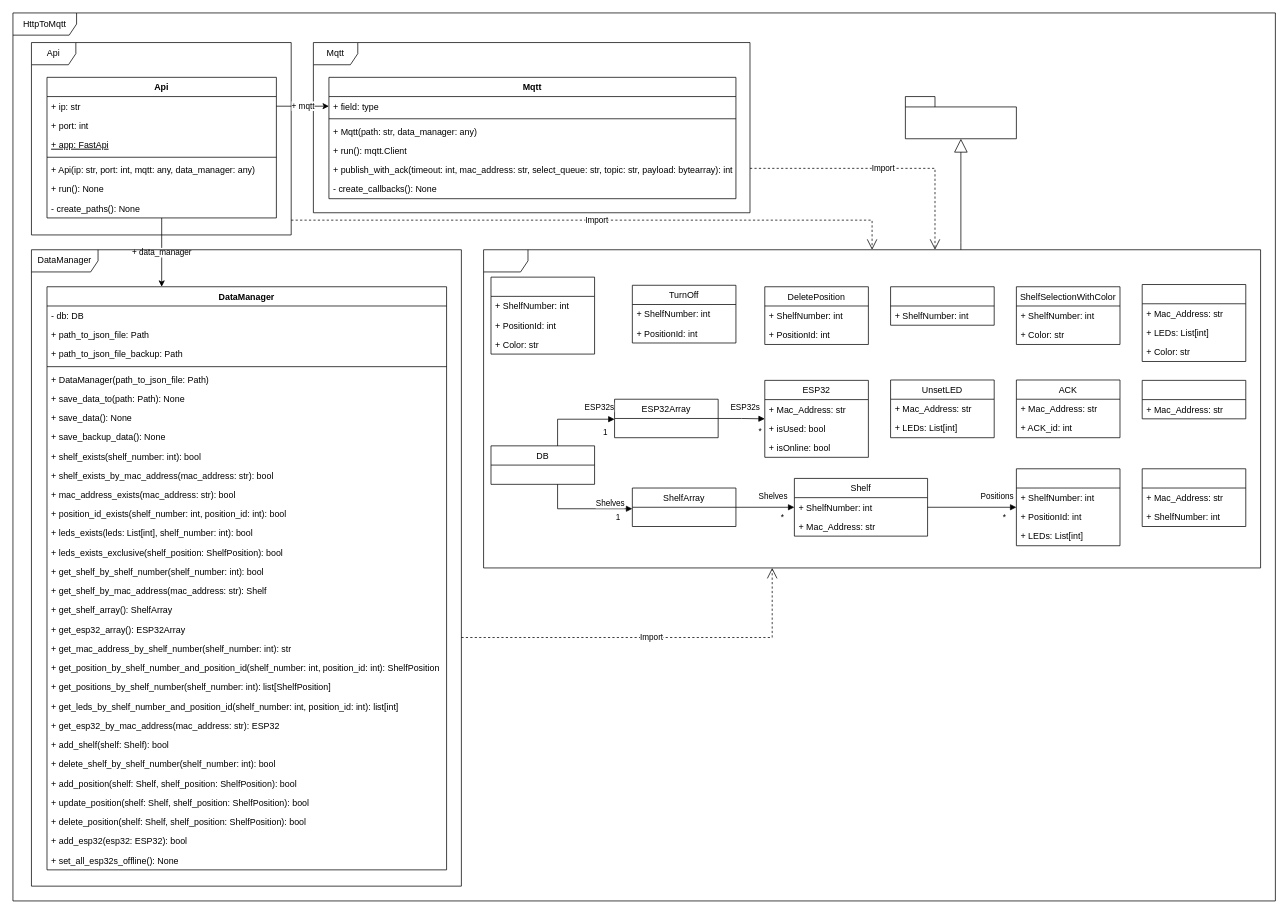
The diagram is 1288 pixels wide and 914 high, and some of its shapes have lost their labels. Each missing label, with the box of its shape:
GetESP32: (1141, 468, 1246, 527)
pydantic.BaseModel: (905, 96, 1016, 139)
ResetESP32: (1141, 380, 1246, 419)
SetLED: (1141, 284, 1246, 361)
ShelfPosition: (1016, 468, 1120, 546)
ShelfSelection: (890, 286, 994, 325)
TurnOn: (490, 276, 595, 354)
Types: (483, 249, 1261, 568)
